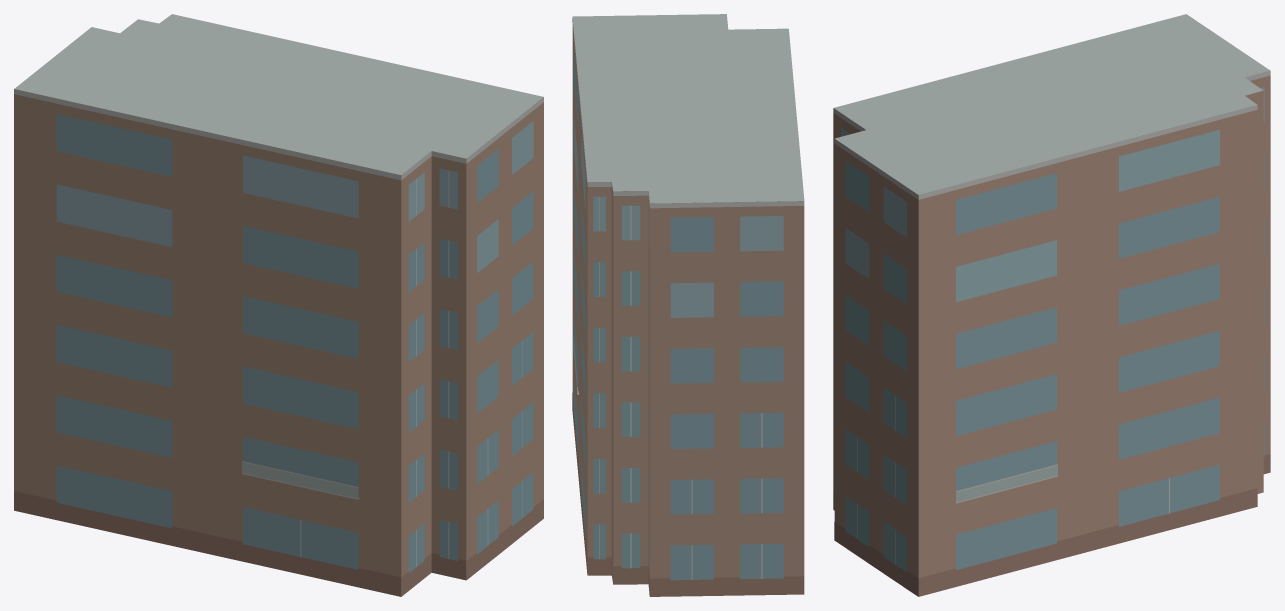
The model's file is survey-upis-32768336.glb.
3 views of the same model, side by side, from view 1: azimuth 30°, elevation 25°; view 2: azimuth 150°, elevation 25°; view 3: azimuth 270°, elevation 25° (orthographic). The views are drawn at different scales.
Visible parts, largest first — view 1: survey-upis-32768336.tmp; view 2: survey-upis-32768336.tmp; view 3: survey-upis-32768336.tmp.
Part boxes in pixels (left/top/right/bottom): survey-upis-32768336.tmp: left=14, top=14, right=543, bottom=596; survey-upis-32768336.tmp: left=572, top=14, right=804, bottom=596; survey-upis-32768336.tmp: left=833, top=14, right=1270, bottom=596.
Bounding box in the file's own units: 19.27 × 19.94 × 19.66.
